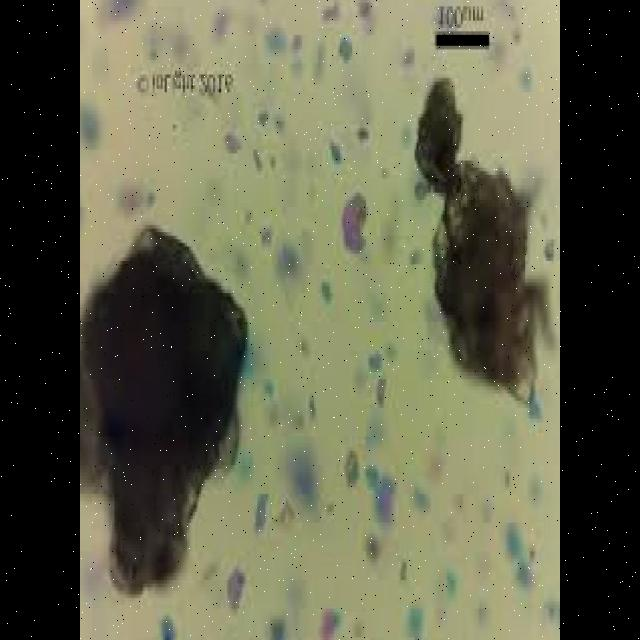Fibre: (80, 224, 250, 602), (412, 81, 556, 415)
